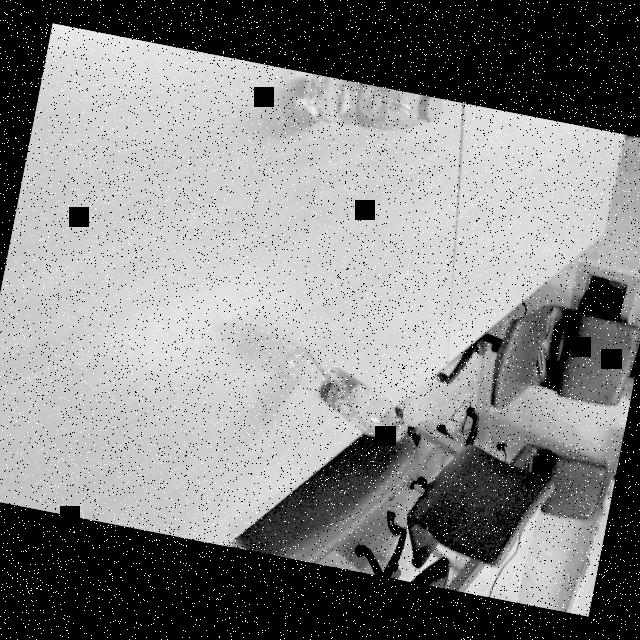plastic_bottle: (268, 344, 420, 444), (294, 72, 444, 147)
